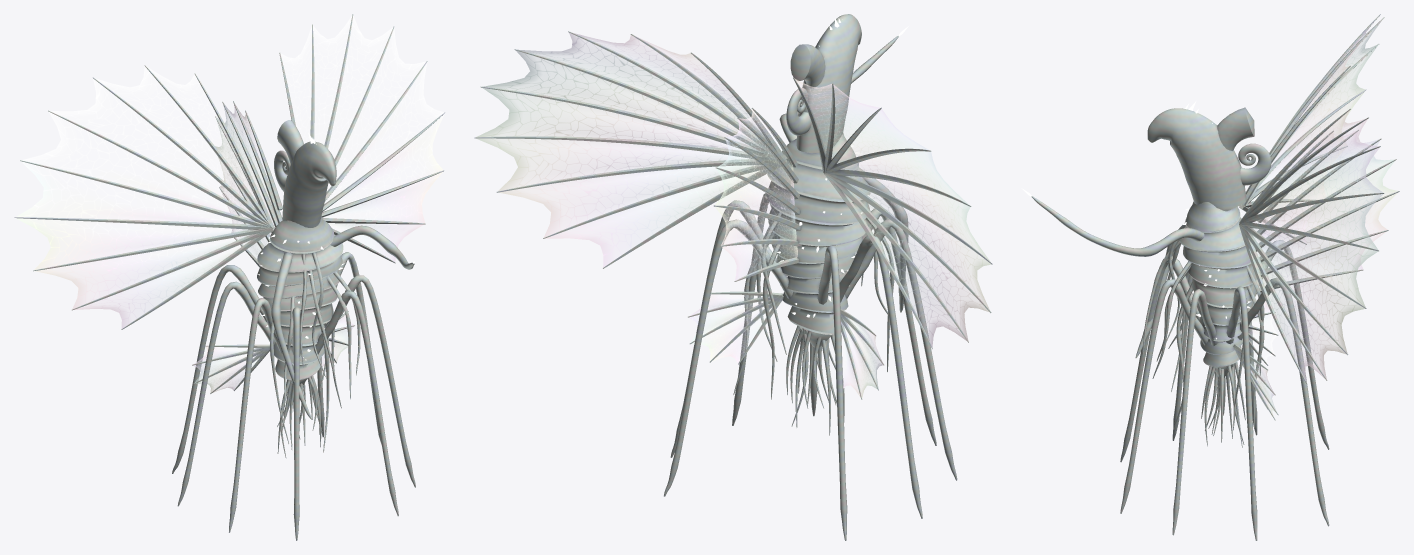
The model's file is guest.glb.
3 views of the same model, side by side, from view 1: azimuth 30°, elevation 25°; view 2: azimuth 150°, elevation 25°; view 3: azimuth 270°, elevation 25° (orthographic). The views are drawn at different scales.
Parts seen in each view (by area): view 1: guest_body, guest_sail_l, guest_sail_r, guest_sail_dorsal, guest_fin_l, guest_arm_draw, guest_fin_r; view 2: guest_body, guest_sail_r, guest_sail_l, guest_sail_dorsal, guest_fin_r, guest_fin_l, guest_arm_draw; view 3: guest_body, guest_sail_r, guest_sail_dorsal, guest_sail_l, guest_arm_draw, guest_fin_l, guest_fin_r.
Boxes of the visible parts, bbox=[...] form: guest_body: bbox=[14, 14, 445, 540]; guest_sail_l: bbox=[15, 66, 260, 328]; guest_sail_r: bbox=[280, 15, 444, 261]; guest_sail_dorsal: bbox=[215, 103, 278, 259]; guest_fin_l: bbox=[193, 346, 264, 393]; guest_arm_draw: bbox=[330, 225, 414, 269]; guest_fin_r: bbox=[320, 315, 353, 368]; guest_body: bbox=[474, 14, 992, 540]; guest_sail_r: bbox=[475, 32, 765, 267]; guest_sail_l: bbox=[794, 78, 991, 347]; guest_sail_dorsal: bbox=[715, 109, 797, 280]; guest_fin_r: bbox=[689, 294, 772, 363]; guest_fin_l: bbox=[842, 319, 882, 397]; guest_arm_draw: bbox=[779, 26, 908, 142]; guest_body: bbox=[1120, 14, 1399, 540]; guest_sail_r: bbox=[1252, 109, 1383, 382]; guest_sail_dorsal: bbox=[1256, 131, 1398, 287]; guest_sail_l: bbox=[1252, 19, 1382, 243]; guest_arm_draw: bbox=[1021, 188, 1204, 256]; guest_fin_l: bbox=[1249, 301, 1277, 363]; guest_fin_r: bbox=[1250, 359, 1276, 418].
Size of the model in its own units: 7.84 by 6.89 by 5.72.
3 materials, 2 textured.
